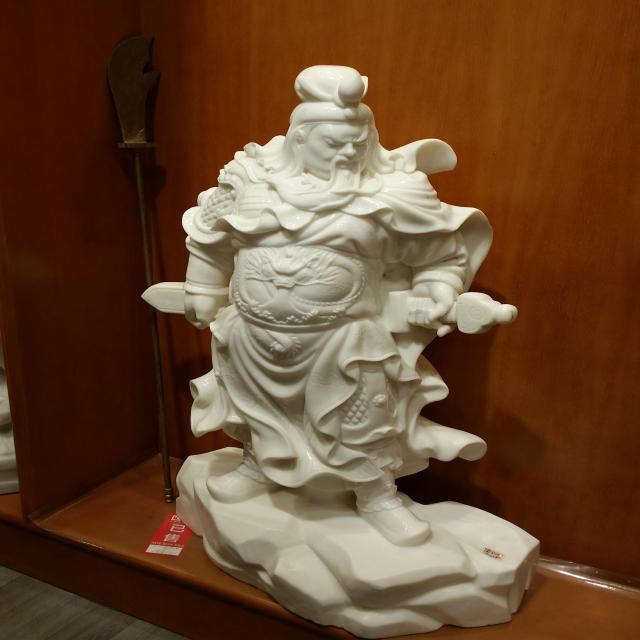Guan Yu: (259, 59, 405, 245)
